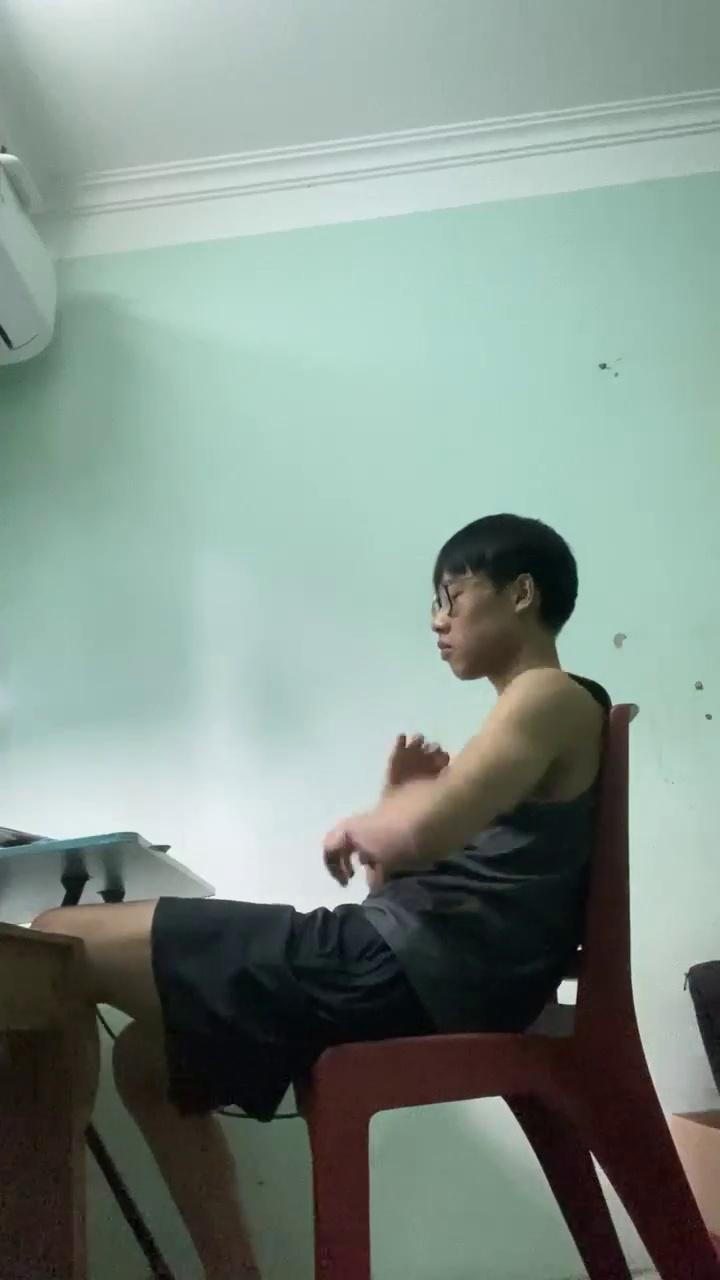BadPosture: (36, 513, 610, 1279)
